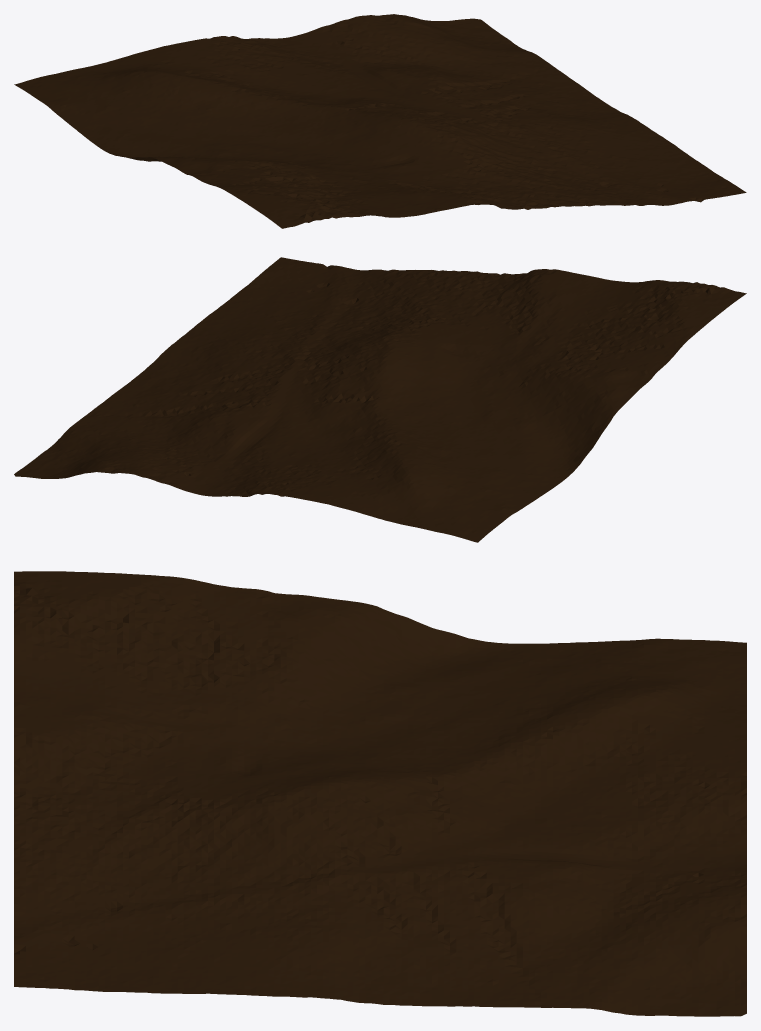
The model's file is DEM.obj.
3 views of the same model, one above another, from view 1: azimuth 30°, elevation 25°; view 2: azimuth 150°, elevation 25°; view 3: azimuth 270°, elevation 25° (orthographic). The views are drawn at different scales.
Parts seen in each view (by area): view 1: dem; view 2: dem; view 3: dem.
Boxes of the visible parts, x1,y1,x2,y2 form: dem: (14,14,746,228); dem: (14,257,746,542); dem: (14,571,746,1016).
Size of the model in its own units: 121 by 25.38 by 121.
